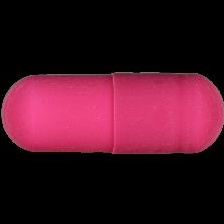0179-0147: (0, 0, 224, 224)
